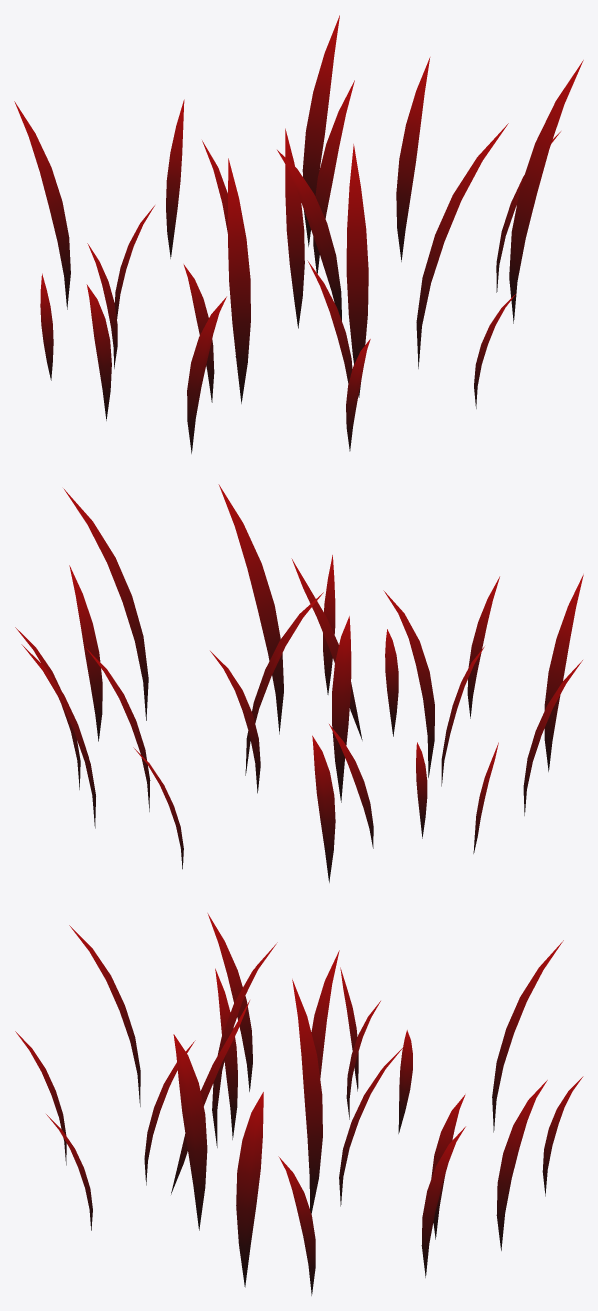
File: GrassMesh.fbx
3 views of the same model, one above another, from view 1: azimuth 30°, elevation 25°; view 2: azimuth 150°, elevation 25°; view 3: azimuth 270°, elevation 25° (orthographic). The views are drawn at different scales.
Visible parts, largest first — view 1: GrassMesh; view 2: GrassMesh; view 3: GrassMesh.
Part boxes in pixels (x1,y1,x2,y2): GrassMesh: (14,15,583,453); GrassMesh: (15,484,583,882); GrassMesh: (15,913,583,1295).
Bounding box in the file's own units: 156 × 67.82 × 149.
